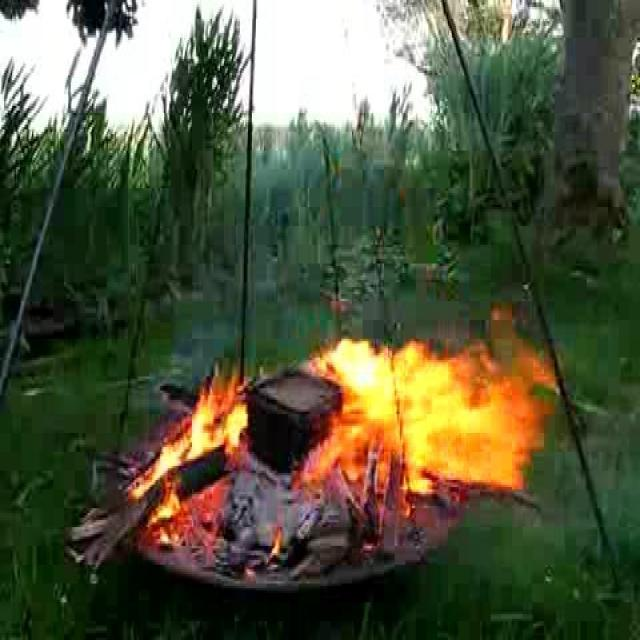Fire: (134, 338, 546, 536)
